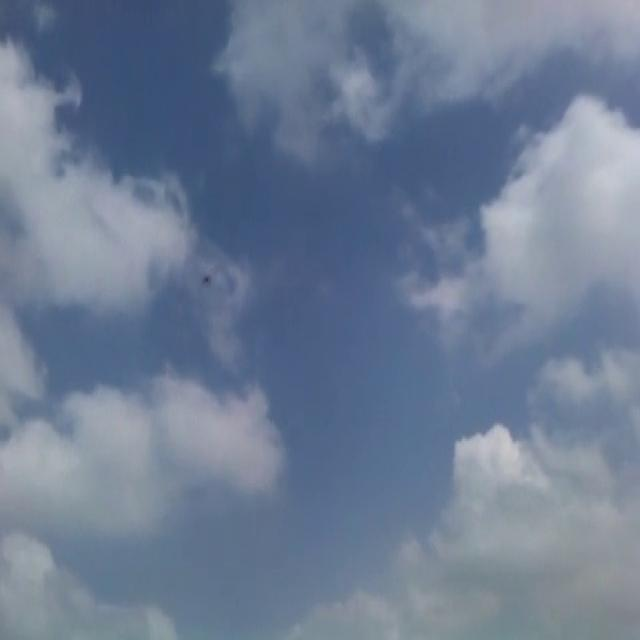drone: (198, 268, 214, 284)
